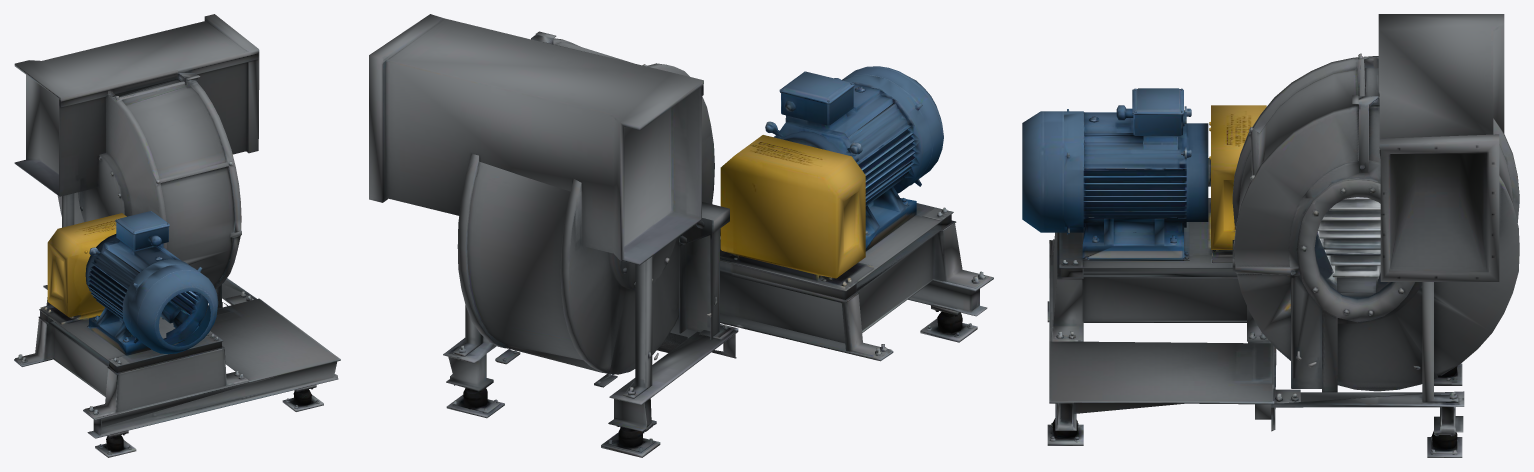
Rendered from fan.glb.
The picture shows the model from 3 angles, left to right: view 1: azimuth 30°, elevation 25°; view 2: azimuth 150°, elevation 25°; view 3: azimuth 270°, elevation 25°; orthographic projection. The views are drawn at different scales.
Parts seen in each view (by area): view 1: aiprintgen_node_5f29216e-3503-4295-9e8a-cb6e7342ee81; view 2: aiprintgen_node_5f29216e-3503-4295-9e8a-cb6e7342ee81; view 3: aiprintgen_node_5f29216e-3503-4295-9e8a-cb6e7342ee81.
Boxes of the visible parts, box(x1,y1,x2,y2) form: aiprintgen_node_5f29216e-3503-4295-9e8a-cb6e7342ee81: box(14, 14, 340, 457); aiprintgen_node_5f29216e-3503-4295-9e8a-cb6e7342ee81: box(369, 14, 993, 457); aiprintgen_node_5f29216e-3503-4295-9e8a-cb6e7342ee81: box(1022, 14, 1519, 457).
Bounding box in the file's own units: 0.8965 × 0.7676 × 0.998.
1 material, 1 textured.
